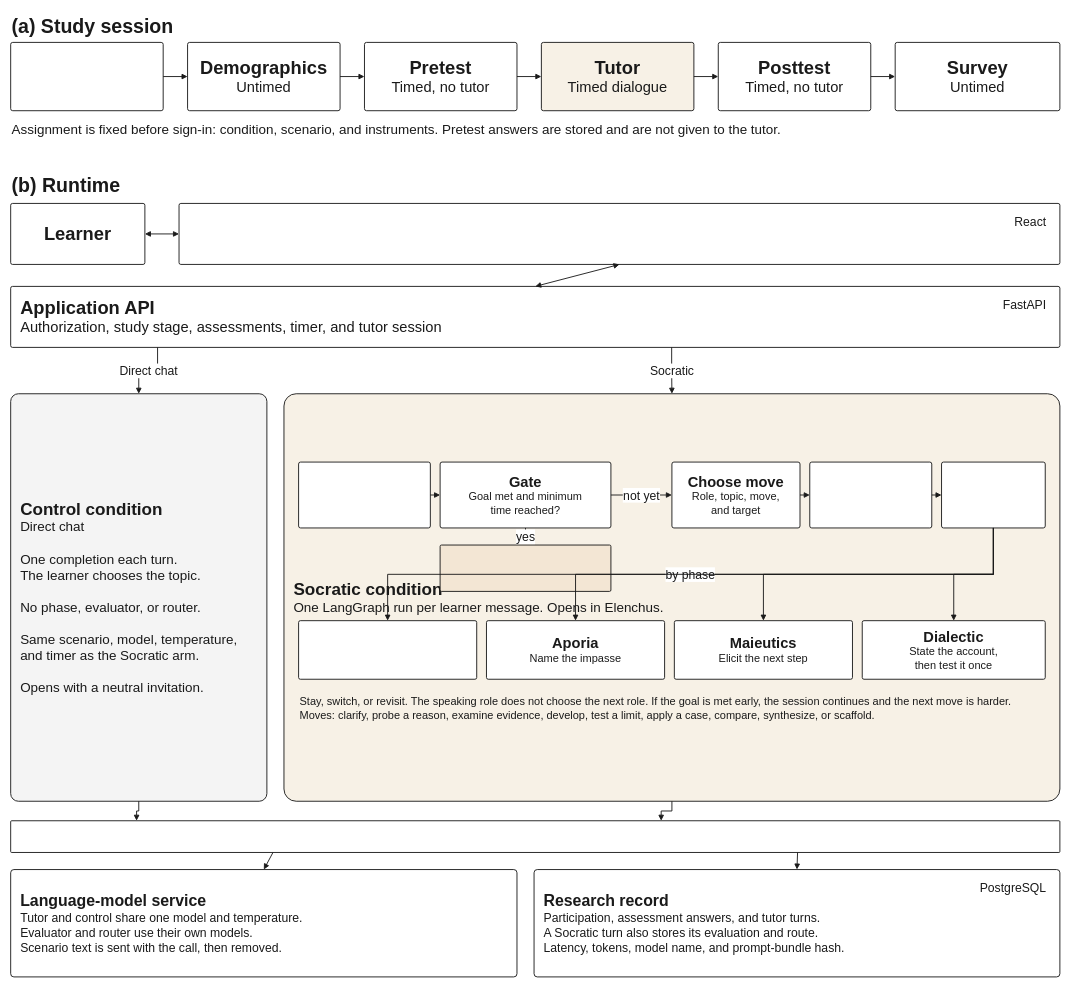
Image size: 1071x988. Some labels were removed from this diagram. The shapes that lost their labels are listed below. From the top down, each one's box as (x1, y1, x2, y2) in pixels, then its label:
(10, 42, 163, 111): Study code Sign in
(178, 203, 1060, 265): Study client Scenario panel, dialogue, phase timers, assessments, and survey
(298, 461, 431, 528): Evaluate Phase criteria and scenario goal
(809, 461, 932, 528): Apply phase Stay, switch, or revisit
(941, 461, 1045, 528): Generate One question for that move
(439, 544, 611, 592): Close Fixed sign-off
(298, 620, 477, 679): Elenchus Test one claim
(10, 820, 1060, 853): Shared by both conditions
